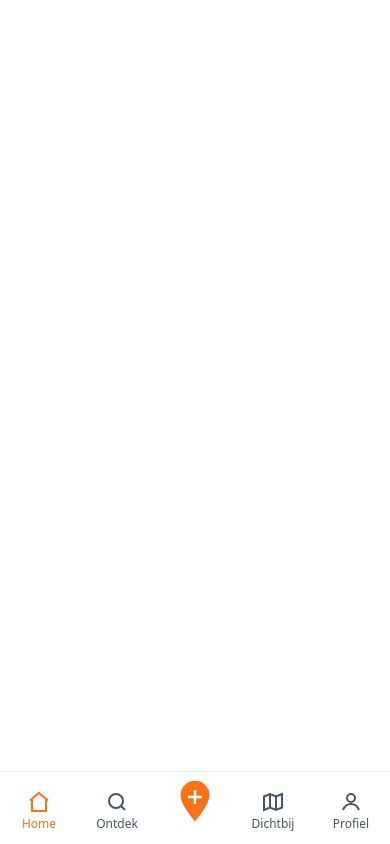
it: BottomNav — create sheet › opens the chooser with a Review and a Bite option
This screenshot has width=390, height=844.
Step 1. Click the button named "Review of bite plaatsen" → click(195, 800), box [156,764,234,836]
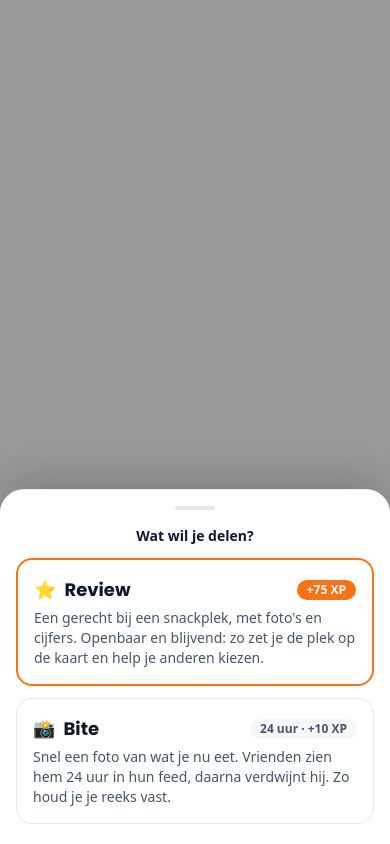
Check: the dialog named "Review of bite plaatsen" is shown
